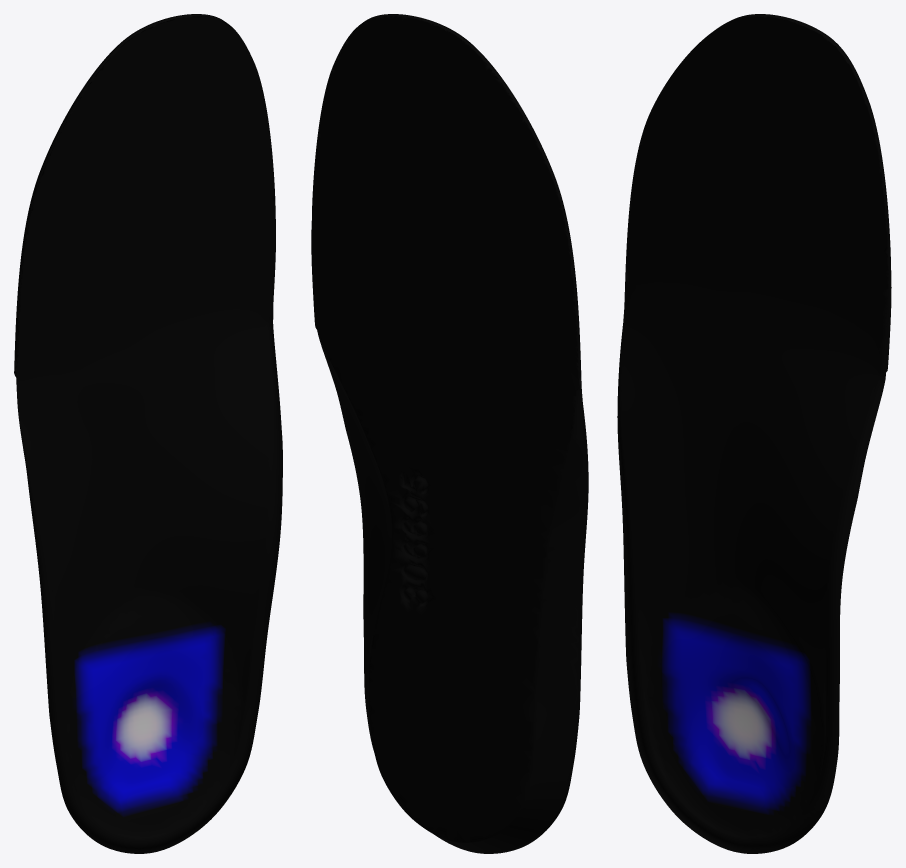
Rendered from CPO-306695_LEFT.glb.
3 views of the same model, side by side, from view 1: azimuth 30°, elevation 25°; view 2: azimuth 150°, elevation 25°; view 3: azimuth 330°, elevation 25° (orthographic). The views are drawn at different scales.
Visible parts, largest first — view 1: geometry_0; view 2: geometry_0; view 3: geometry_0.
Boxes of the visible parts, x1=… form: geometry_0: x1=14, y1=14, x2=282, y2=853; geometry_0: x1=311, y1=14, x2=588, y2=853; geometry_0: x1=617, y1=14, x2=891, y2=853.
Size of the model in its own units: 99.04 by 296 by 18.31.
